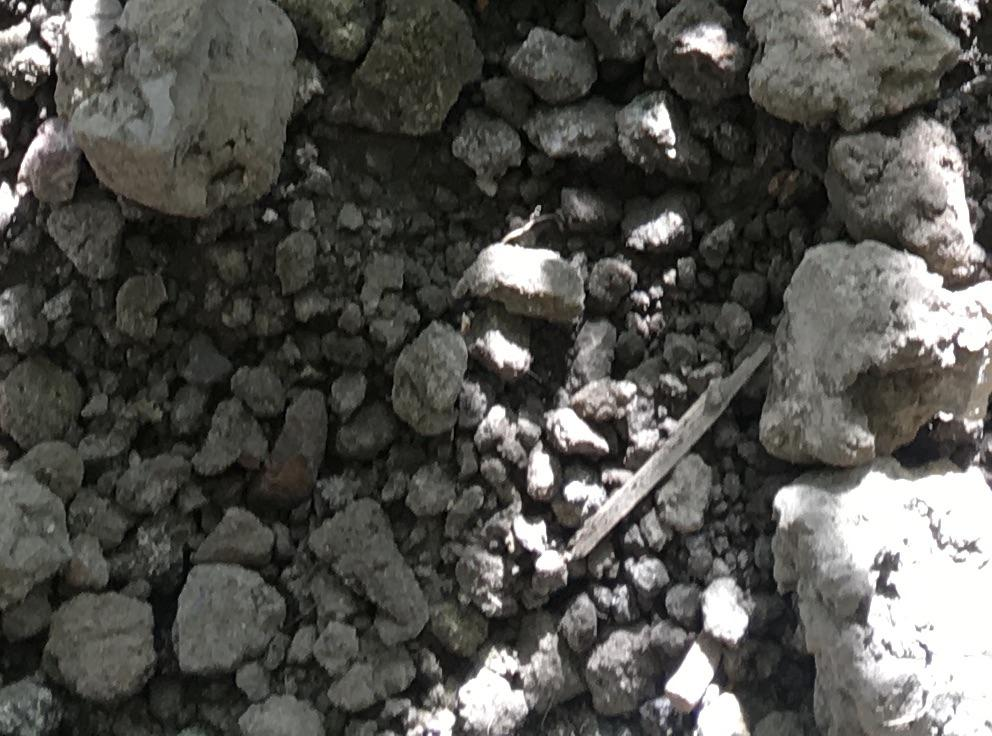block: (773, 469, 992, 732), (60, 1, 299, 218), (755, 244, 990, 464), (741, 3, 971, 133), (326, 1, 485, 133), (1, 439, 87, 616), (169, 564, 291, 677), (41, 593, 158, 700), (454, 242, 589, 325), (389, 322, 465, 439)
